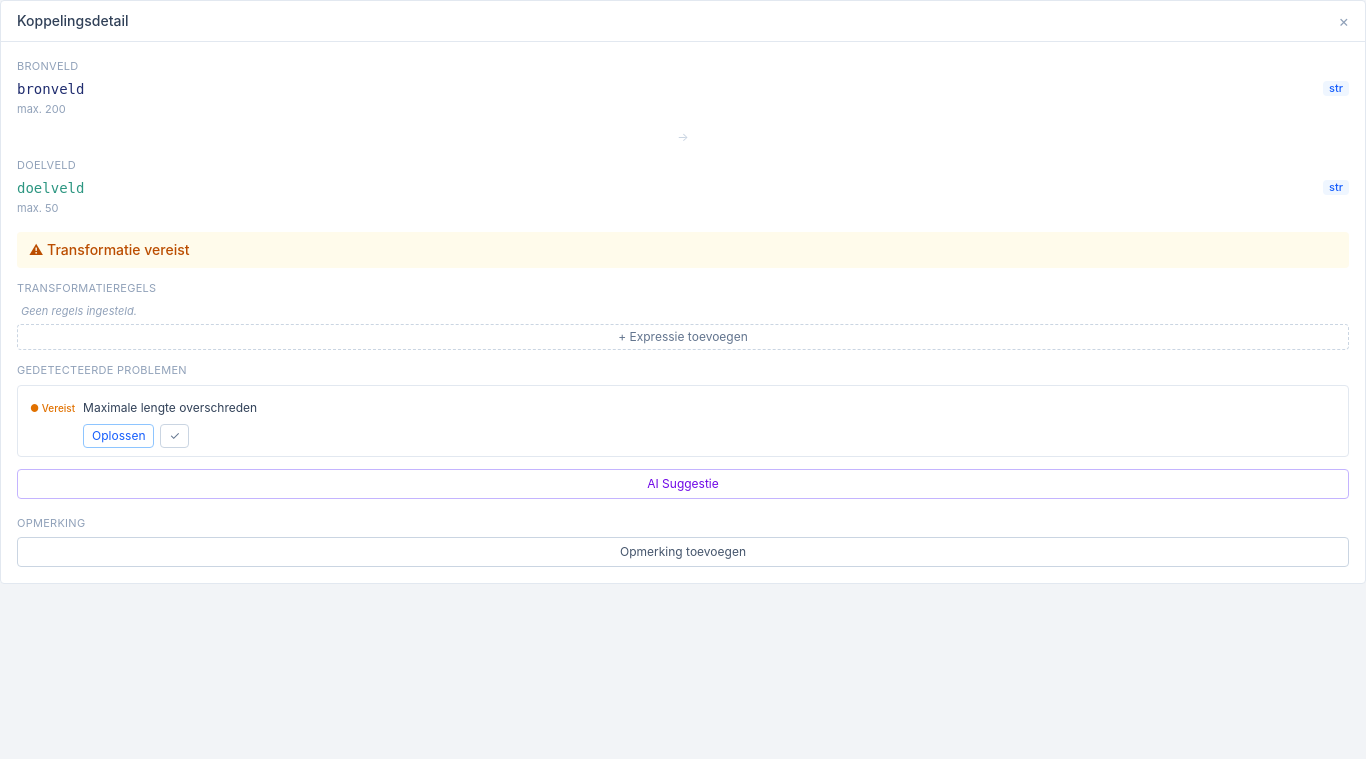
it: CouplingDetailPanel — opmerking › adds a comment via "Opmerking toevoegen" and shows it
Click the button with test id "opmerking-add-button".
click(683, 552)  # box x1=17 y1=537 x2=1349 y2=567
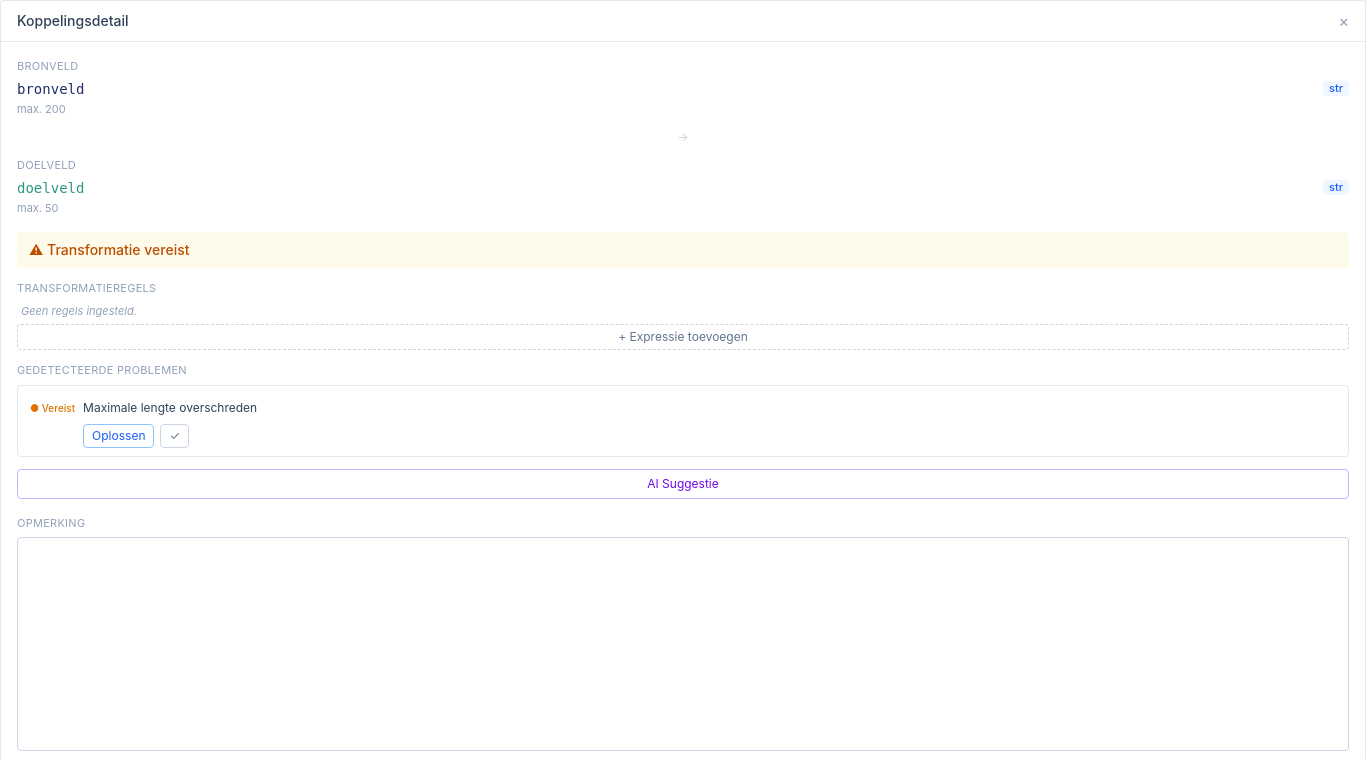
Type "Belangrijke context" into the text box with test id "opmerking-textarea".
click(683, 644); type("Belangrijke context")  # box x1=17 y1=537 x2=1349 y2=751
(page scrolled)
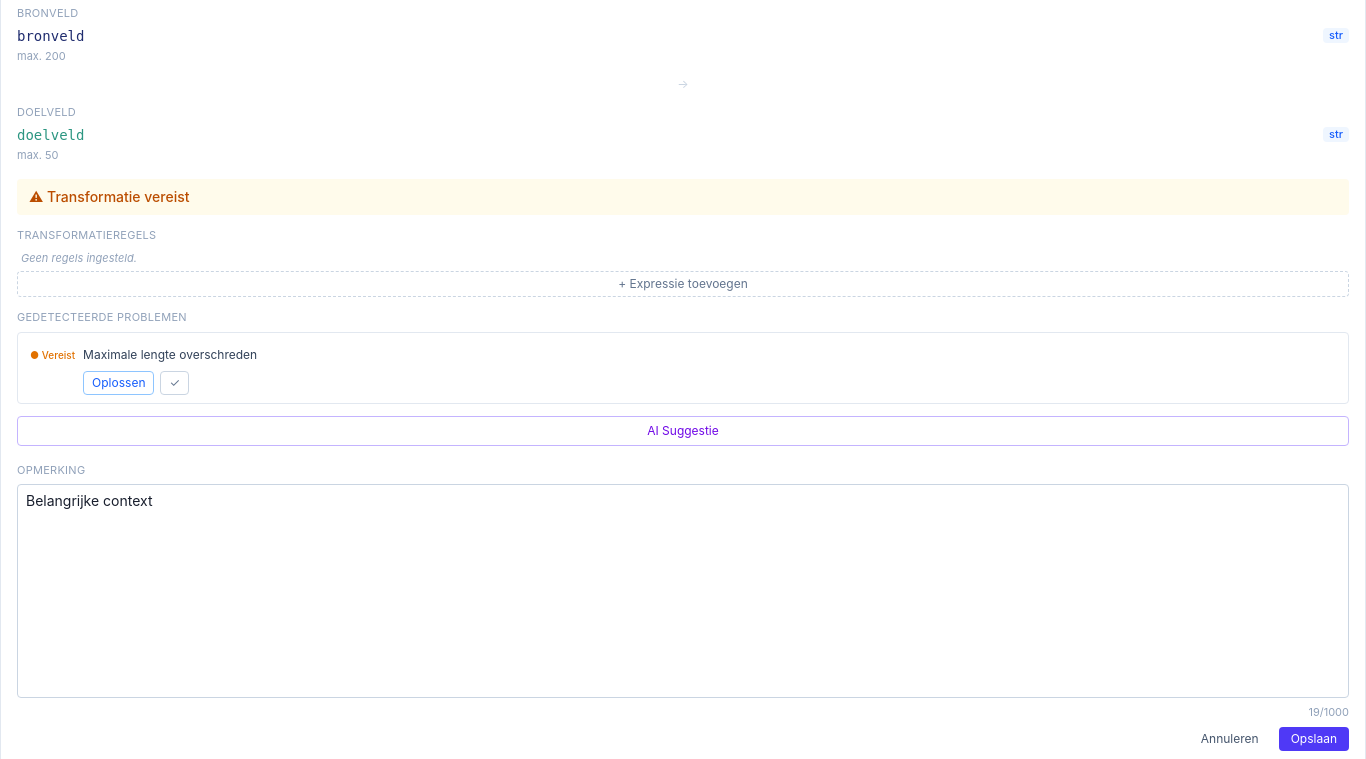
Click the button with test id "opmerking-save-button".
click(1314, 738)  # box x1=1279 y1=726 x2=1349 y2=750
(page scrolled)
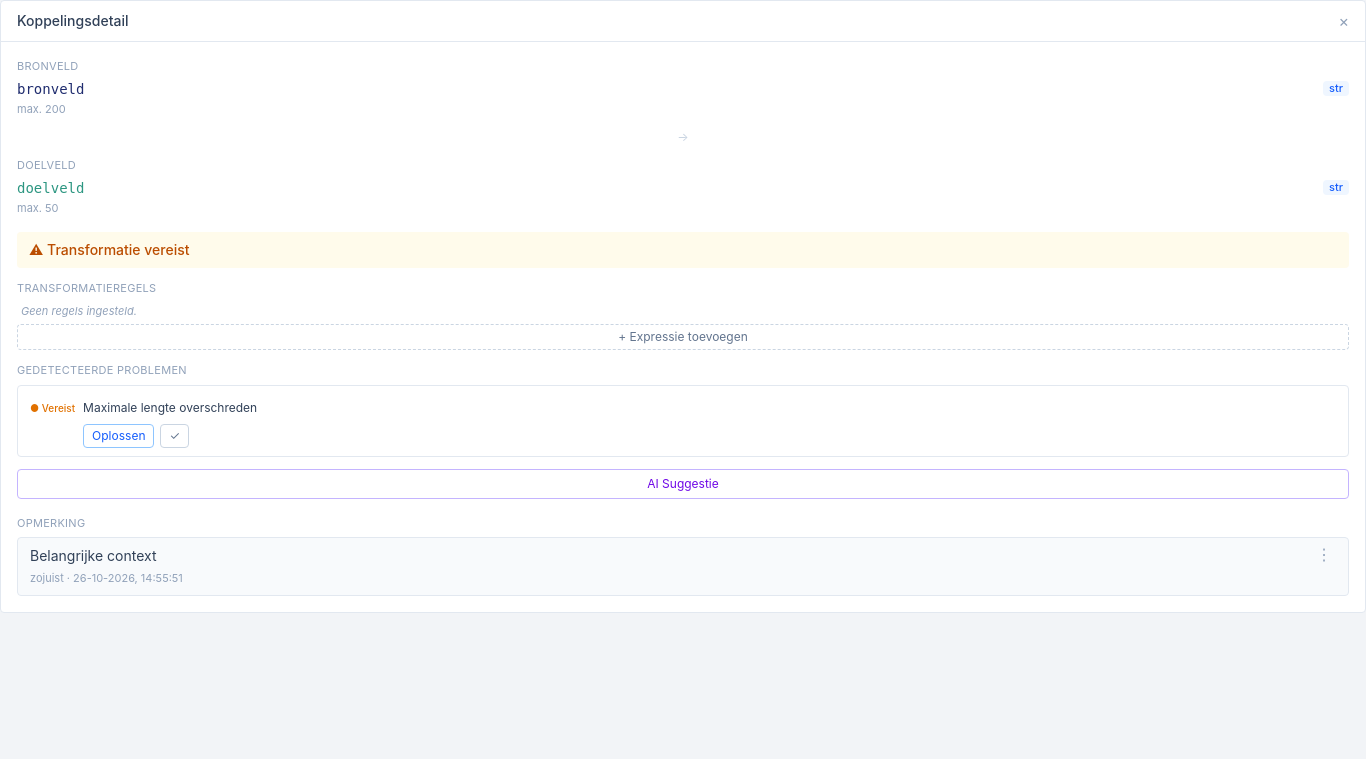
Result: the text with test id "opmerking-text" reads "Belangrijke context" at x1=30 y1=547 x2=156 y2=564
